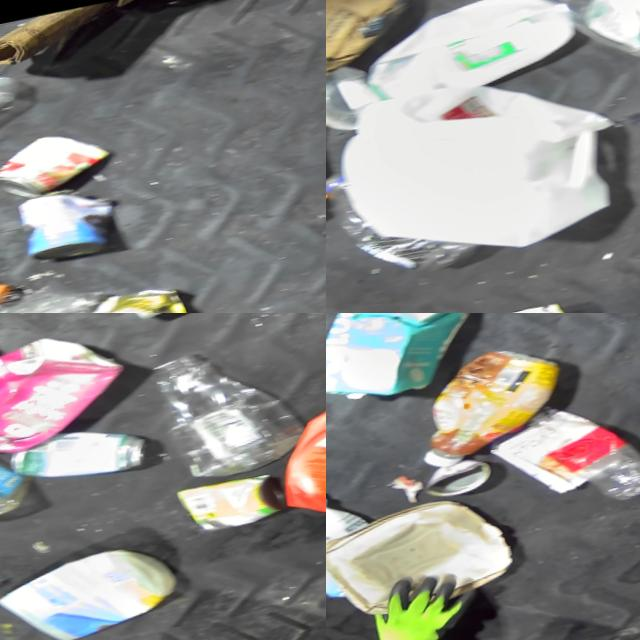can: (0, 418, 150, 491), (166, 469, 295, 542), (3, 189, 121, 265), (0, 122, 110, 199), (413, 458, 490, 501)
milk_jug: (326, 71, 633, 271)
non_white_jug: (326, 313, 490, 409), (241, 374, 326, 544), (71, 279, 218, 313)
plastic_bottle: (520, 391, 640, 513), (495, 0, 640, 75), (159, 0, 326, 18)
